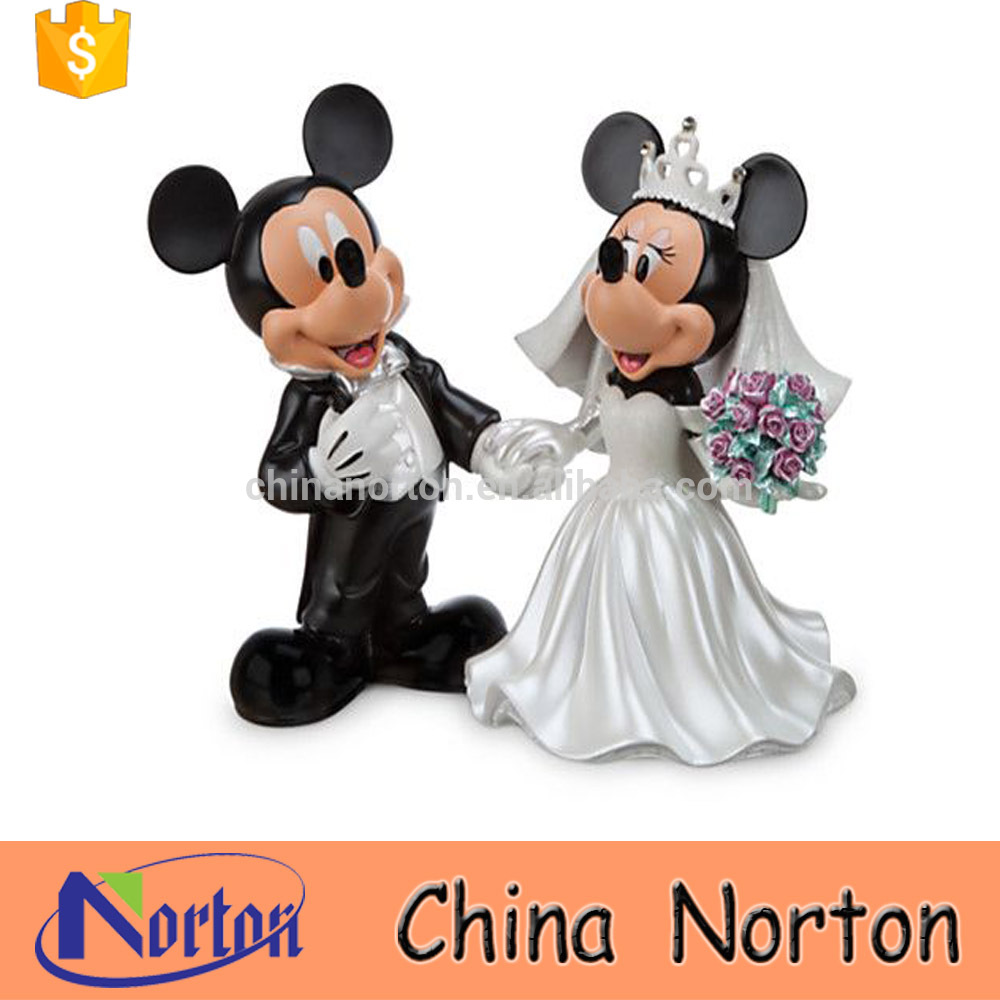Mickey: (142, 83, 407, 378)
